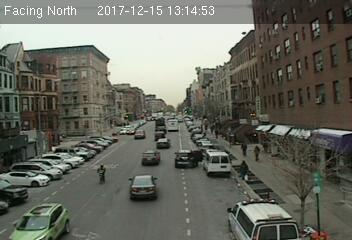bicycle: (95, 164, 106, 185)
car: (8, 202, 69, 240), (126, 175, 159, 201), (173, 149, 202, 169), (141, 149, 162, 165), (157, 138, 169, 148), (133, 129, 145, 138)
pedestrian: (241, 162, 248, 186), (253, 143, 260, 164), (239, 140, 247, 158)
police: (226, 197, 299, 240)
truck: (204, 150, 230, 177), (165, 118, 179, 131)
